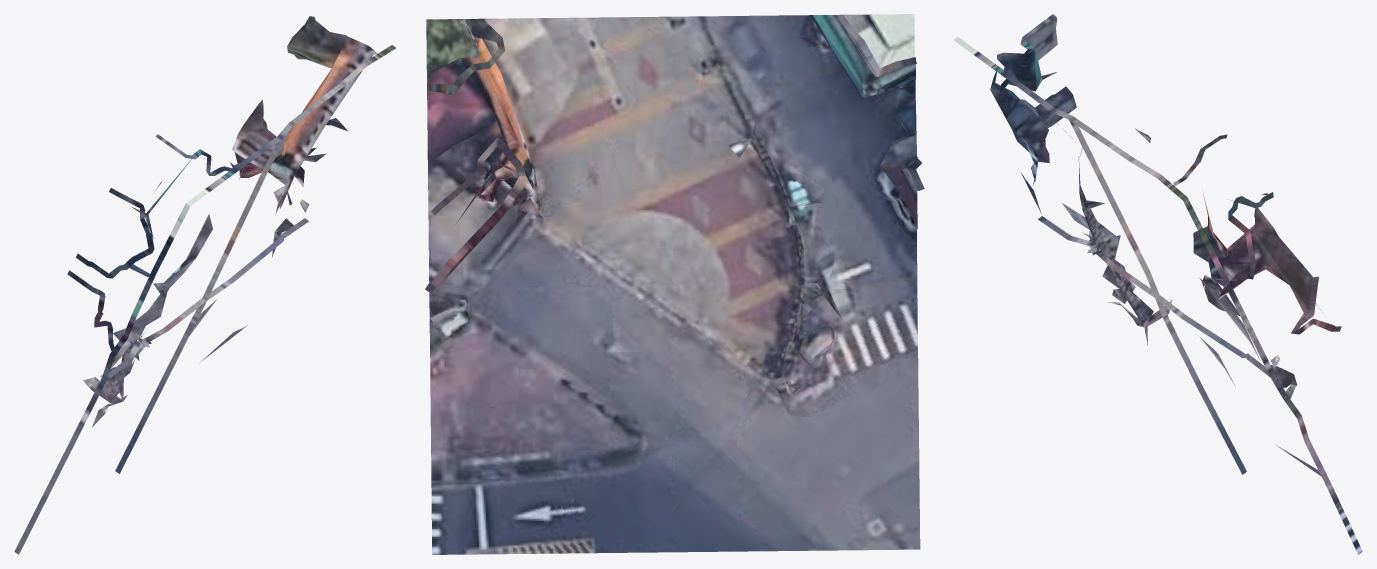
The picture shows the model from 3 angles, left to right: view 1: azimuth 30°, elevation 25°; view 2: azimuth 150°, elevation 25°; view 3: azimuth 270°, elevation 25°; orthographic projection. The views are drawn at different scales.
Bounding box in the file's own units: 38.11 × 37.43 × 32.05.
1 material, 1 textured.
